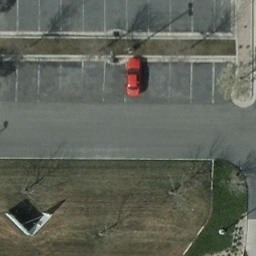car: (127, 58, 143, 96)
